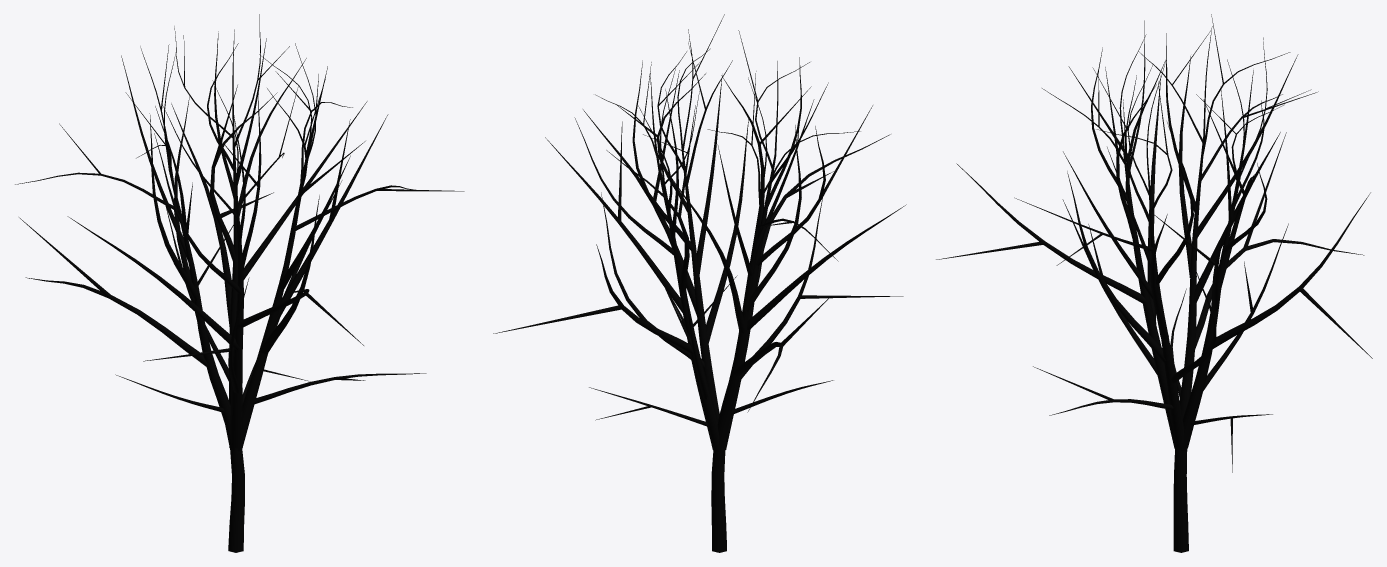
Rendered from Boom1.fbx.
The picture shows the model from 3 angles, left to right: view 1: azimuth 30°, elevation 25°; view 2: azimuth 150°, elevation 25°; view 3: azimuth 270°, elevation 25°; orthographic projection.
Visible parts, largest first — view 1: tree.008; view 2: tree.008; view 3: tree.008.
Part boxes in pixels (x1=…): tree.008: x1=15, y1=14, x2=464, y2=552; tree.008: x1=493, y1=14, x2=906, y2=552; tree.008: x1=936, y1=14, x2=1372, y2=552.
Bounding box in the file's own units: 454 × 636 × 495.
